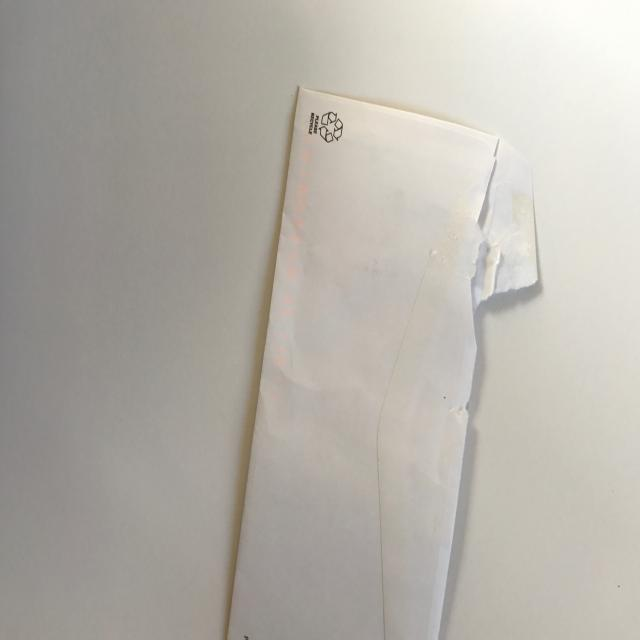paper: (210, 74, 548, 640)
